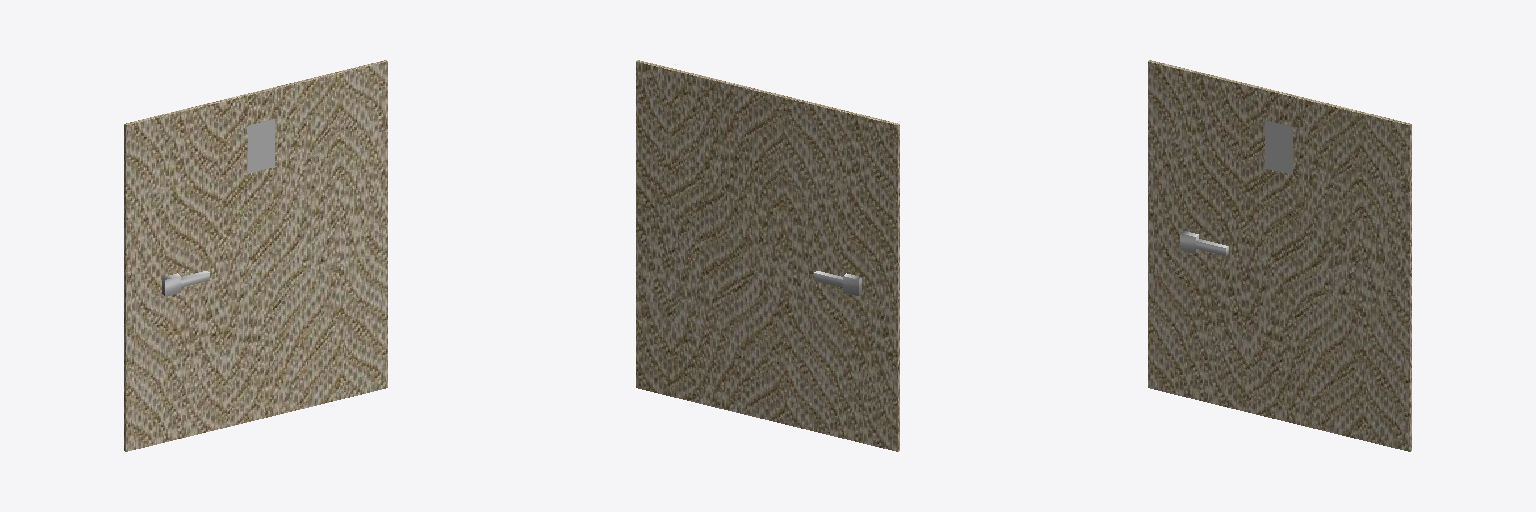
The picture shows the model from 3 angles: view 1: azimuth 30°, elevation 25°; view 2: azimuth 150°, elevation 25°; view 3: azimuth 330°, elevation 25°; orthographic projection.
Visible parts, largest first — view 1: Cubo.003, Plane, Cube; view 2: Cubo.003, Cube; view 3: Cubo.003, Plane, Cube.
Boxes of the visible parts, box(x1,y1,x2,y2) form: Cubo.003: box(124, 60, 387, 451); Plane: box(248, 119, 274, 173); Cube: box(162, 271, 209, 295); Cubo.003: box(636, 60, 899, 451); Cube: box(814, 271, 861, 295); Cubo.003: box(1148, 60, 1411, 451); Plane: box(1265, 120, 1292, 174); Cube: box(1180, 231, 1228, 255).
Bounding box in the file's own units: 6.26 × 7.43 × 0.3753.
3 materials, 2 textured.